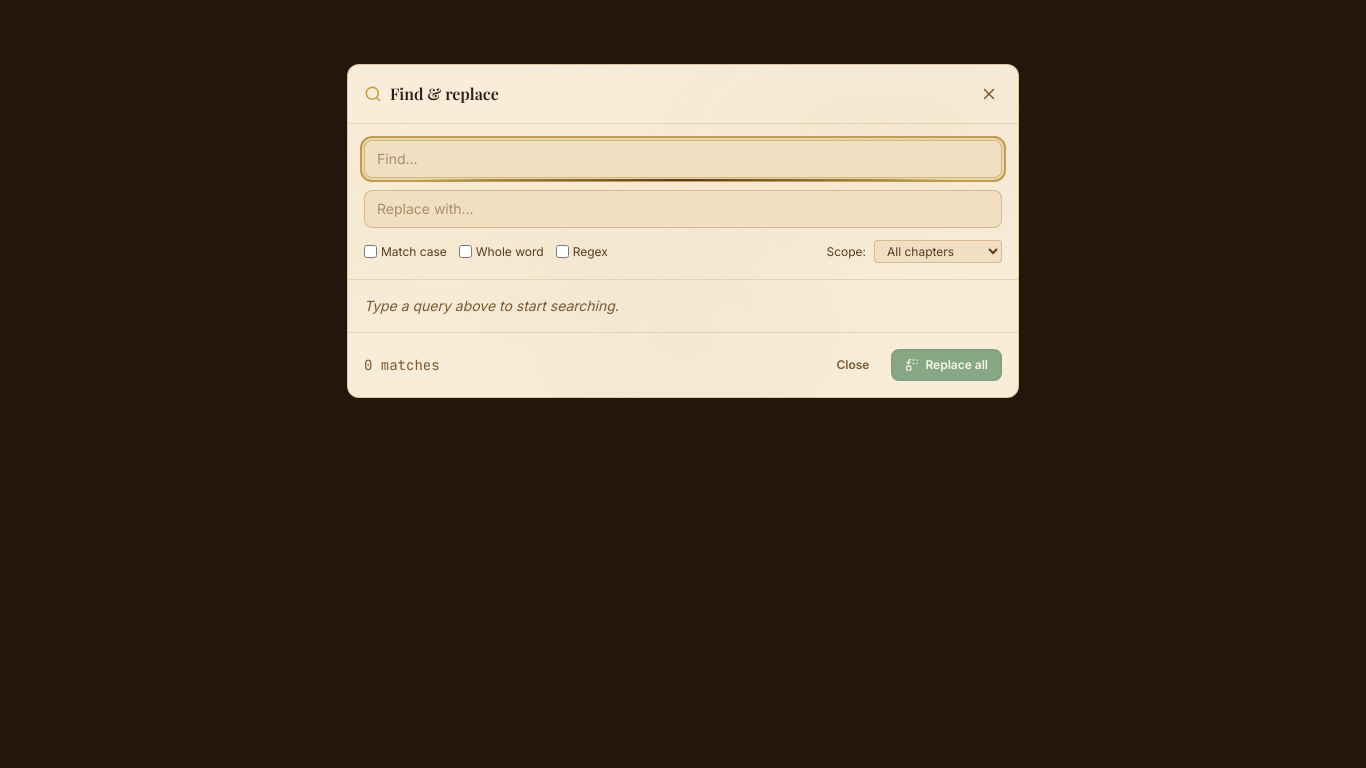
FindReplaceDialog › shows the exclusion notice when the edited chapter has matches
This screenshot has width=1366, height=768.
Type "the" into the field named "Find query". click: (683, 159)
box: x1=364 y1=140 x2=1002 y2=178
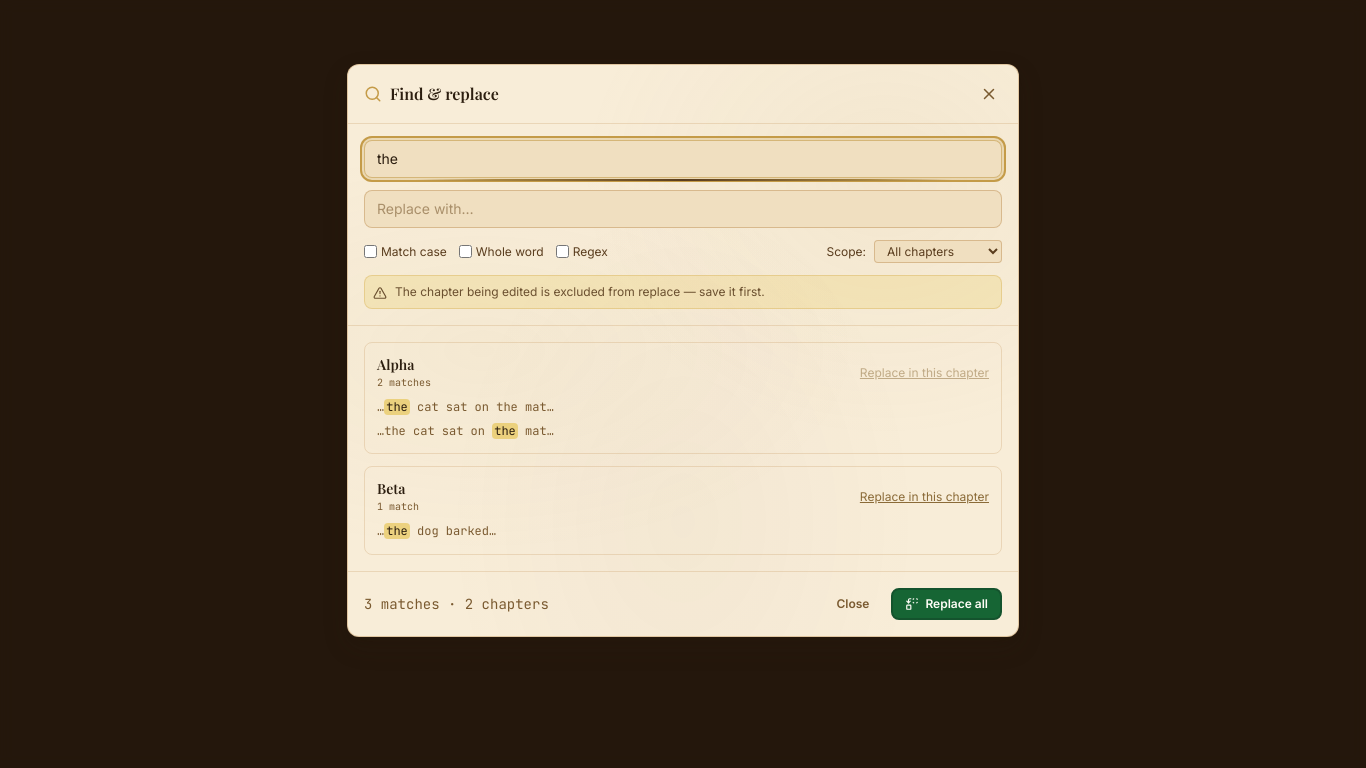
expect the text "The chapter being edited is excluded from replace — save it first." is shown: met, box x1=395 y1=284 x2=765 y2=300
